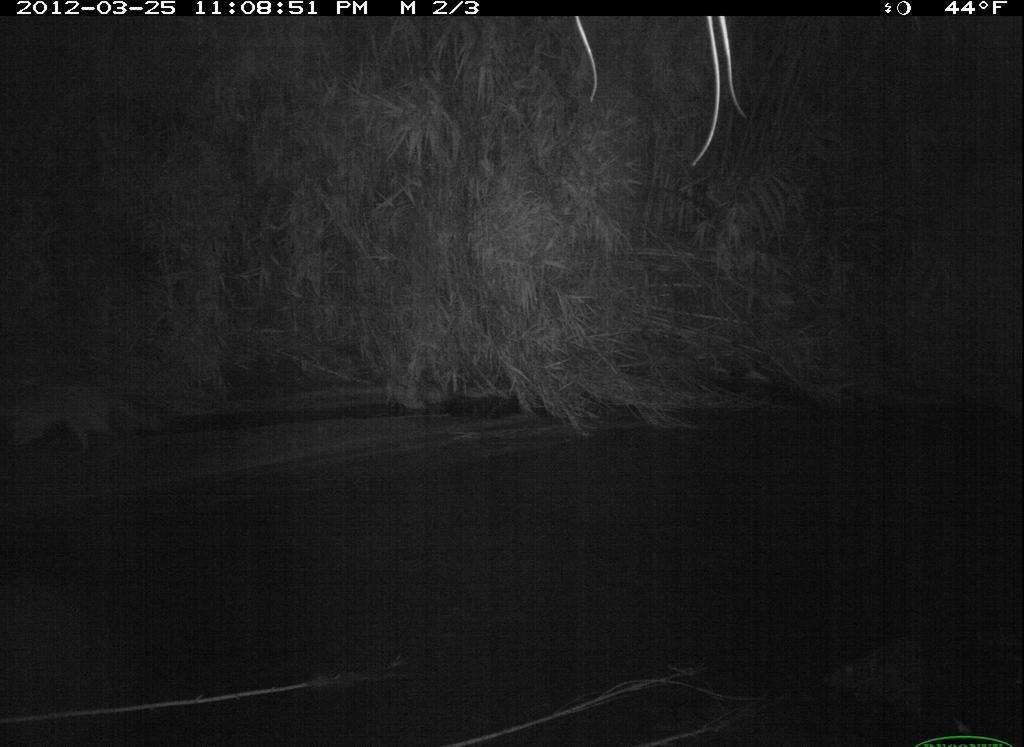raccoon: (3, 374, 168, 456)
